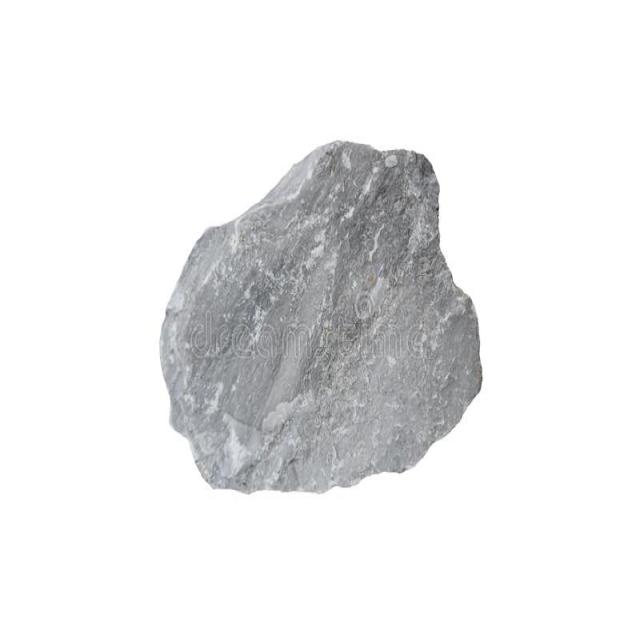Sedimentary: (154, 138, 488, 489)
